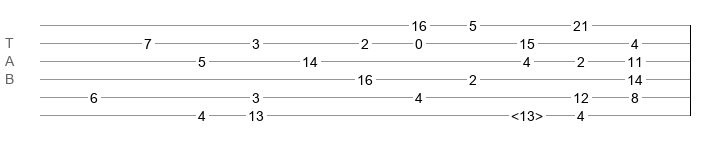0: (415, 36, 423, 46)
11: (627, 54, 643, 64)
12: (573, 90, 589, 100)
13: (248, 108, 264, 118)
14: (302, 54, 318, 64), (627, 72, 643, 82)
15: (519, 36, 535, 46)
16: (357, 72, 373, 82), (411, 18, 427, 28)
2: (361, 36, 369, 46), (469, 72, 477, 82), (577, 54, 585, 64)
21: (573, 18, 589, 28)
3: (252, 36, 260, 46), (252, 90, 260, 100)
4: (198, 108, 206, 118), (415, 90, 423, 100), (523, 54, 531, 64), (577, 108, 585, 118), (631, 36, 639, 46)
5: (198, 54, 206, 64), (469, 18, 477, 28)
6: (90, 90, 98, 100)
7: (144, 36, 152, 46)
8: (631, 90, 639, 100)
harmonic: (511, 108, 543, 118)
